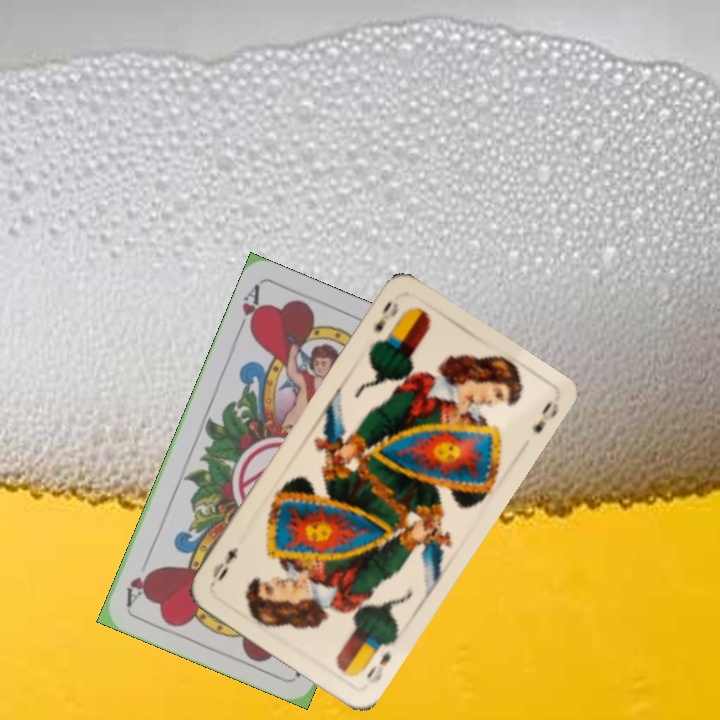EO: (362, 647, 394, 686), (370, 297, 402, 336)
HA: (232, 281, 265, 338)
